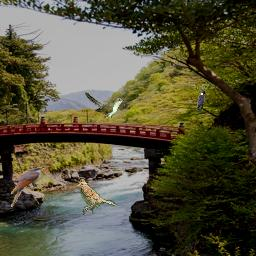Crow: (196, 90, 206, 111)
Cuckoo: (11, 167, 45, 207), (85, 92, 125, 118)
Sparrow: (77, 178, 117, 215)
